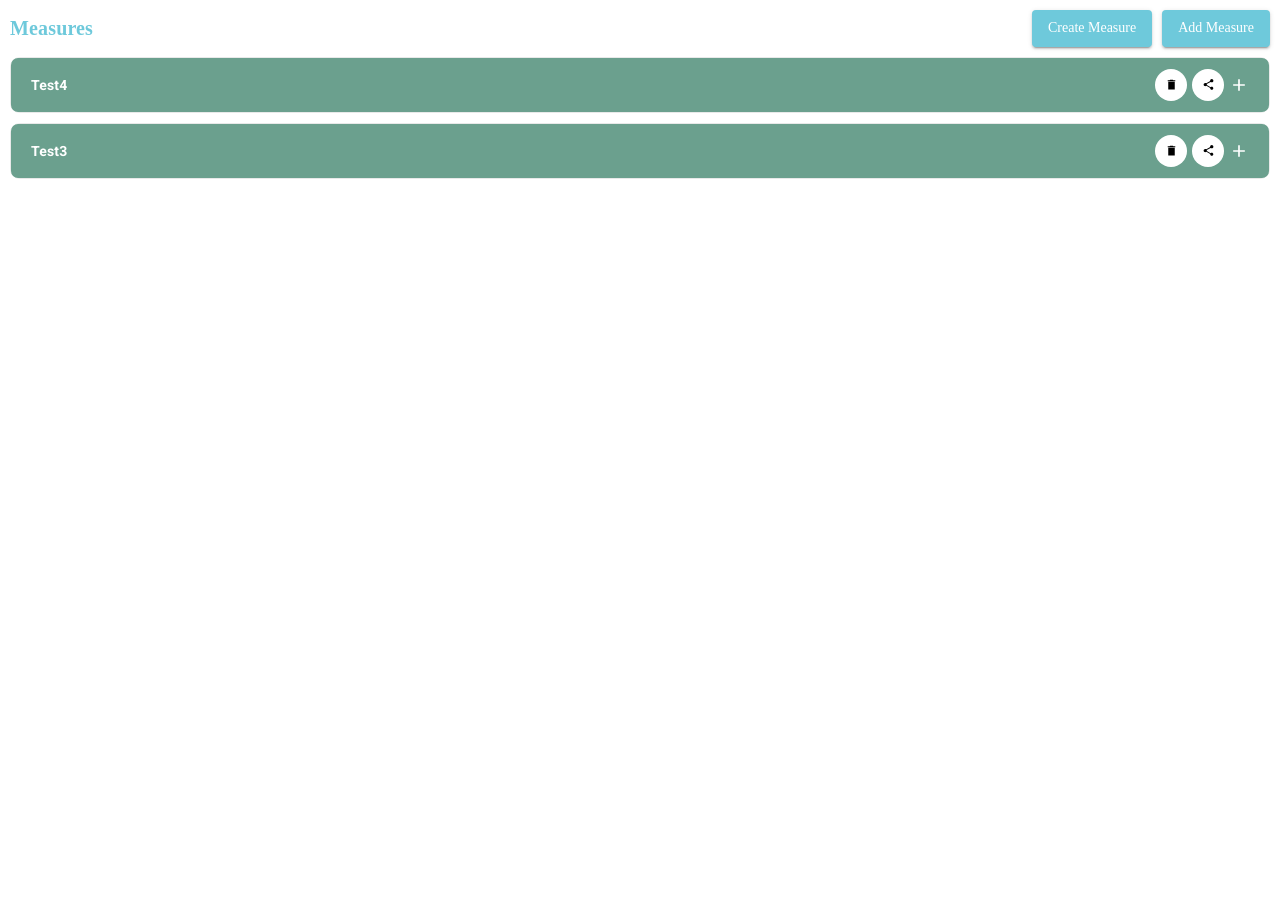
it: Therapist patient measures › click on share button
This screenshot has width=1280, height=900.
Click the element with test id "iconButton_da31d1fa-48ca-4b67-b406-dd29db30ca9f_2". click: (1208,150)
box: [1192, 134, 1224, 166]
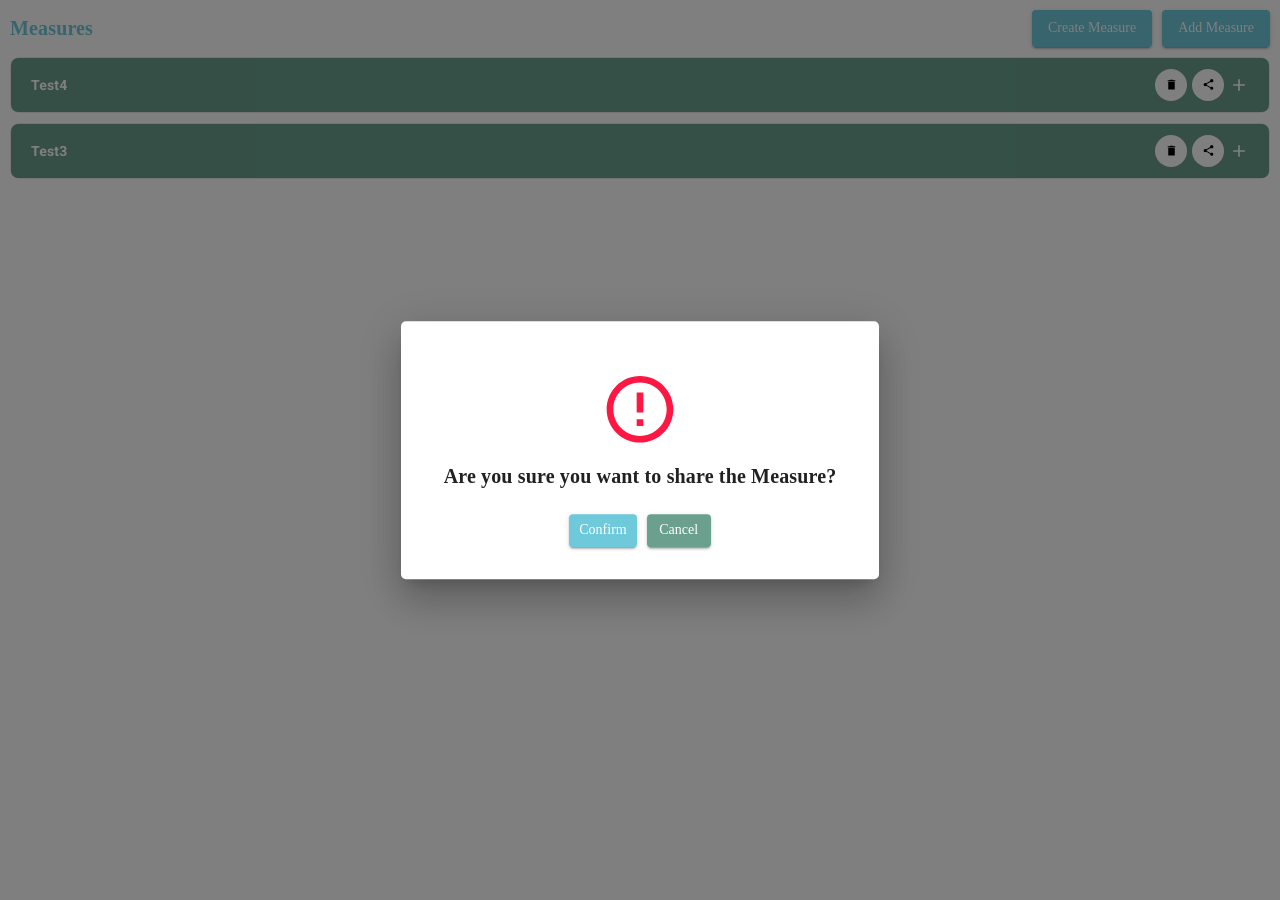
Click the button with test id "confirmButton". click: (603,531)
box: [569, 514, 637, 547]
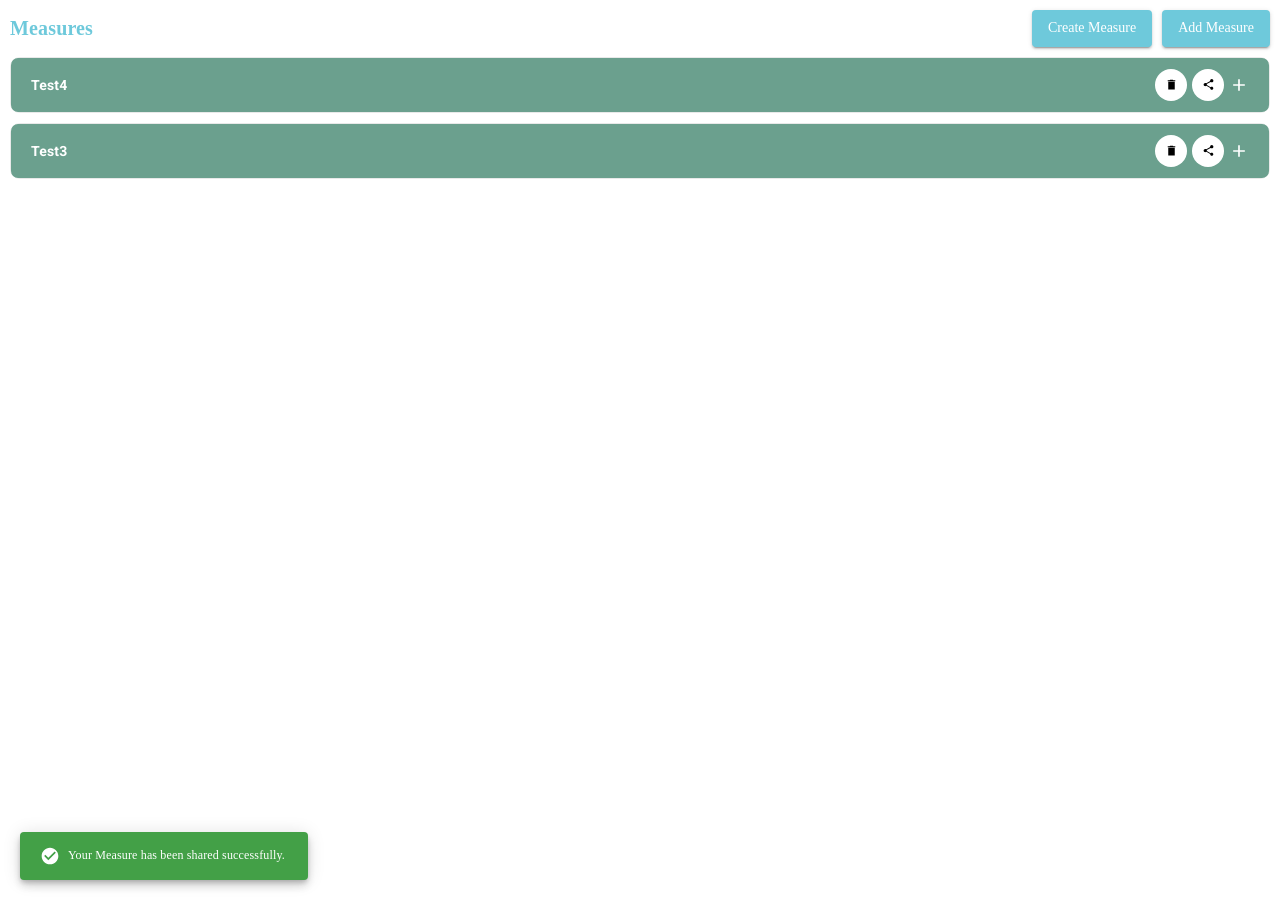
Result: the text "Your Measure has been shared successfully." is shown at [40, 846, 285, 866]
